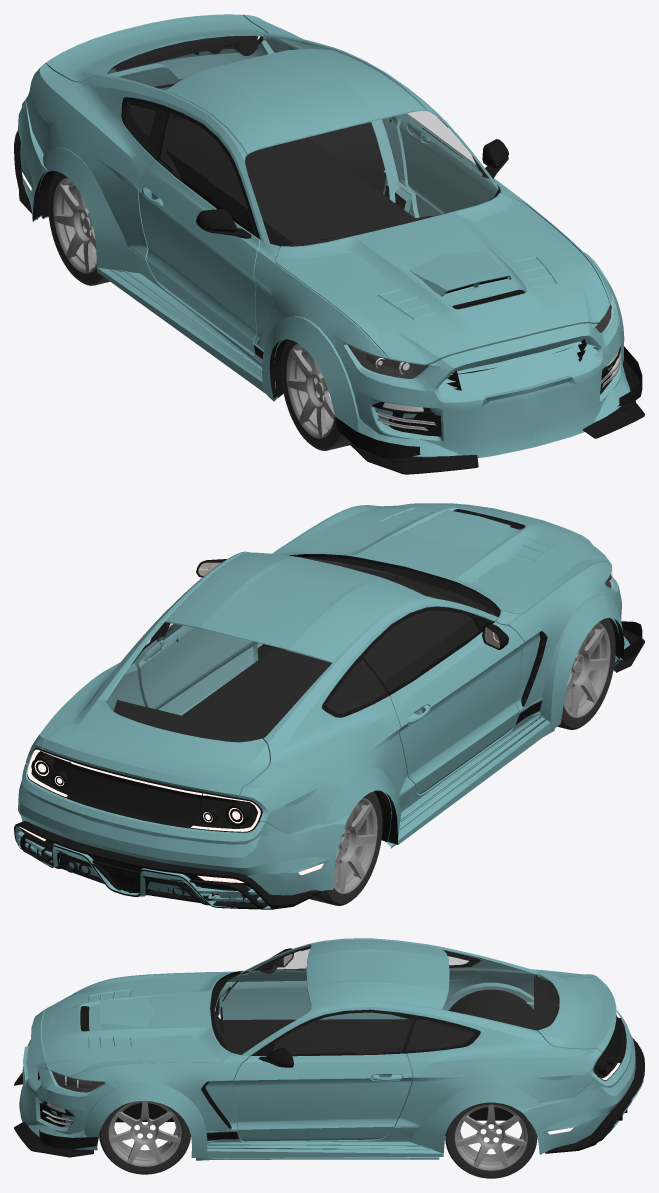
Rendered from ford.fbx.
3 renders of one model, top to bottom at view 1: azimuth 30°, elevation 25°; view 2: azimuth 150°, elevation 25°; view 3: azimuth 270°, elevation 25°, orthographic. The views are drawn at different scales.
Visible parts, largest first — view 1: Body, Hood 2, Body kit 2, Front Bumper Stock, Body kit 1, Front Bumper 3, Front Bumper 4, FR, RR, Hood 4, Hood Stock, Rear Bumper 4 (+1 smaller); view 2: Body, Body kit 2, Hood 2, Rear Bumper 4, RR, FR, Hood 4, Rear Bumper 2, Hood Stock, Hood 3, Body kit 1, Rear Bumper Stock (+1 smaller); view 3: Body, Body kit 2, Hood 2, RL, FL, Body kit 1, Front Bumper Stock, Hood 4, Rear Bumper 4, Front Bumper 4, Side Skirts 4, Hood Stock (+3 smaller).
Part boxes in pixels (box(x1,y1,x2,y2)): Body: box(25, 14, 613, 378); Hood 2: box(276, 192, 610, 365); Body kit 2: box(18, 42, 642, 458); Front Bumper Stock: box(354, 318, 621, 458); Body kit 1: box(39, 64, 630, 457); Front Bumper 3: box(333, 300, 635, 462); Front Bumper 4: box(350, 341, 644, 474); FR: box(281, 339, 351, 450); RR: box(48, 171, 109, 285); Hood 4: box(355, 238, 565, 311); Hood Stock: box(286, 251, 517, 364); Rear Bumper 4: box(14, 42, 267, 219); Body: box(25, 505, 613, 833); Body kit 2: box(18, 594, 642, 908); Hood 2: box(276, 503, 609, 613); Rear Bumper 4: box(14, 765, 321, 909); RR: box(309, 791, 382, 905); FR: box(557, 618, 615, 729); Hood 4: box(355, 504, 542, 574); Rear Bumper 2: box(22, 764, 320, 880); Hood Stock: box(473, 510, 604, 607); Hood 3: box(346, 503, 558, 584); Body kit 1: box(51, 508, 629, 891); Rear Bumper Stock: box(25, 832, 250, 902); Body: box(51, 938, 626, 1141); Body kit 2: box(39, 982, 635, 1158); Hood 2: box(42, 972, 230, 1077); RL: box(445, 1102, 537, 1178); FL: box(99, 1100, 190, 1174); Body kit 1: box(28, 999, 631, 1152); Front Bumper Stock: box(19, 1039, 88, 1129); Hood 4: box(58, 987, 162, 1047); Rear Bumper 4: box(545, 1010, 644, 1153); Front Bumper 4: box(14, 1046, 93, 1157); Side Skirts 4: box(196, 1130, 439, 1160); Hood Stock: box(44, 974, 212, 1027).
Bounding box in the file's own units: 166 × 114 × 397.
